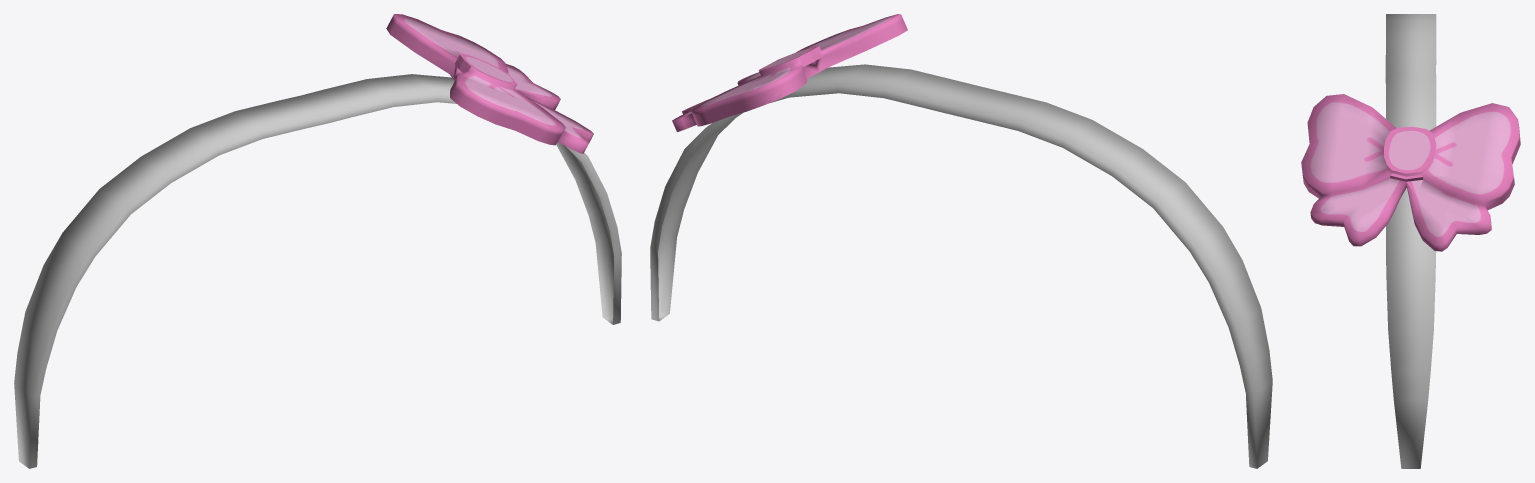
The model's file is mono.glb.
3 renders of one model, left to right at view 1: azimuth 30°, elevation 25°; view 2: azimuth 150°, elevation 25°; view 3: azimuth 270°, elevation 25°, orthographic. The views are drawn at different scales.
Parts seen in each view (by area): view 1: Plano, Círculo; view 2: Plano, Círculo; view 3: Círculo, Plano.
Boxes of the visible parts, left/top/right/bottom form: Plano: left=14, top=74, right=621, bottom=468; Círculo: left=386, top=14, right=593, bottom=153; Plano: left=650, top=64, right=1272, bottom=468; Círculo: left=672, top=14, right=907, bottom=131; Círculo: left=1301, top=94, right=1520, bottom=251; Plano: left=1385, top=14, right=1436, bottom=468.
Size of the model in its own units: 0.9086 by 0.4562 by 0.3142.
Materials: 2 (1 with a texture image).
